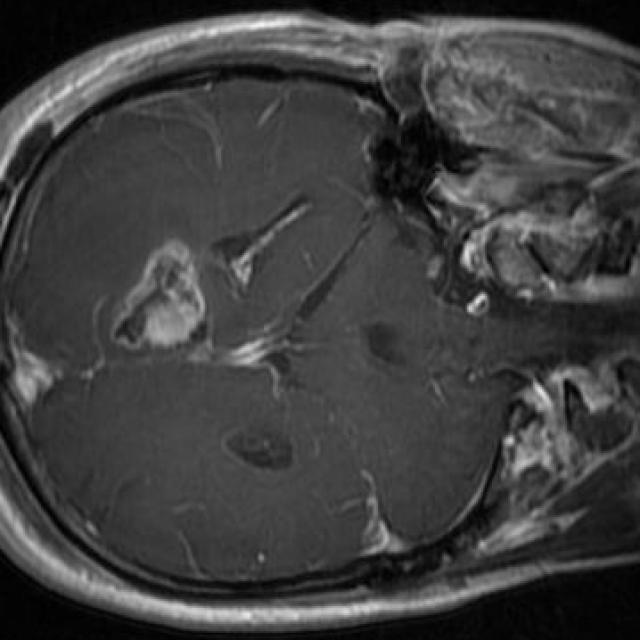glioma: (111, 237, 210, 353)
